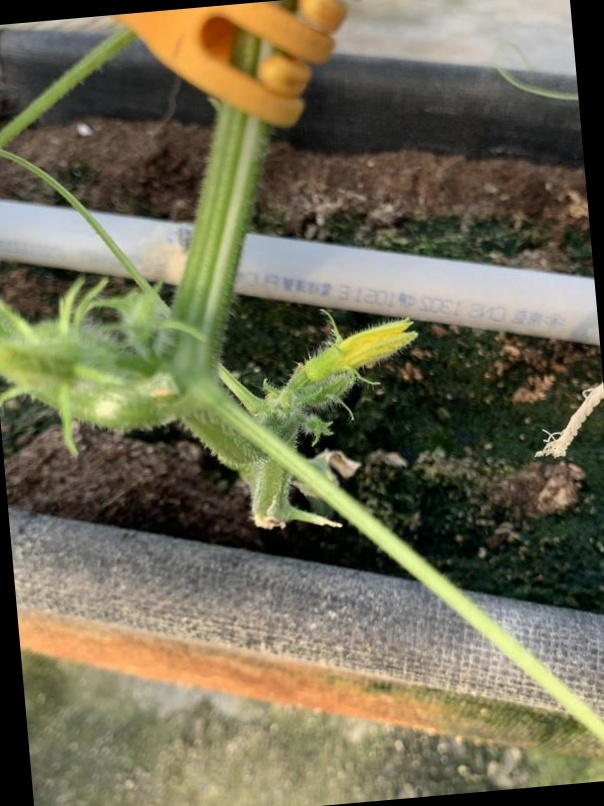bud: (299, 315, 419, 386)
